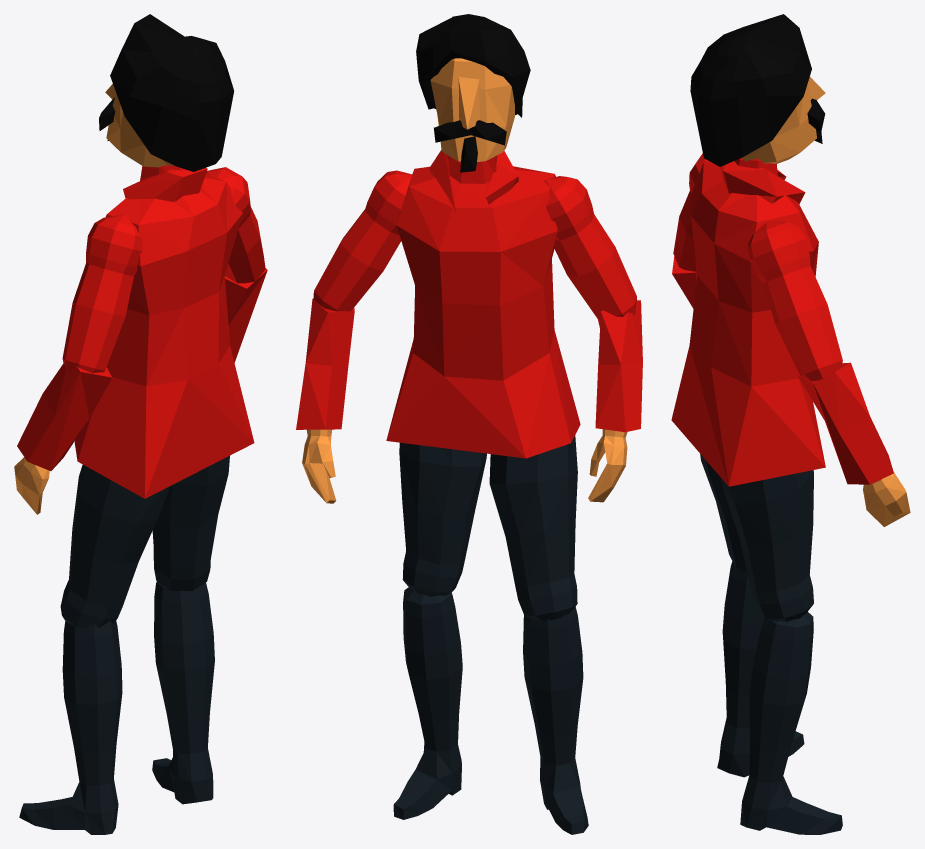
Rendered from dealer.obj.
3 renders of one model, left to right at view 1: azimuth 30°, elevation 25°; view 2: azimuth 150°, elevation 25°; view 3: azimuth 270°, elevation 25°, orthographic.
Visible parts, largest first — view 1: group1794093376, group1578840458, group1131172432, group938122174, group1874662402, group368397114, group719248615, group502874426, group106158125, group1037886679; view 2: group1794093376, group1578840458, group1874662402, group938122174, group719248615, group1131172432, group1037886679, group502874426, group368397114, group106158125; view 3: group1794093376, group1578840458, group938122174, group719248615, group106158125, group1037886679, group1131172432, group1874662402, group368397114, group502874426.
Part boxes in pixels (x1,y1,x2,y2): group1794093376: [74, 165, 254, 498]; group1578840458: [99, 14, 233, 171]; group1131172432: [19, 620, 122, 834]; group938122174: [152, 582, 214, 804]; group1874662402: [60, 464, 169, 628]; group368397114: [62, 214, 142, 380]; group719248615: [152, 456, 229, 591]; group502874426: [14, 363, 112, 514]; group106158125: [206, 167, 265, 283]; group1037886679: [224, 268, 267, 362]; group1794093376: [386, 150, 580, 458]; group1578840458: [416, 14, 530, 172]; group1874662402: [489, 435, 577, 621]; group938122174: [393, 587, 462, 819]; group719248615: [399, 442, 486, 596]; group1131172432: [523, 606, 588, 834]; group1037886679: [296, 299, 354, 503]; group502874426: [588, 300, 642, 502]; group368397114: [544, 176, 636, 320]; group106158125: [313, 170, 412, 311]; group1794093376: [671, 158, 825, 486]; group1578840458: [690, 14, 825, 166]; group938122174: [740, 612, 842, 834]; group719248615: [721, 470, 813, 621]; group106158125: [747, 221, 842, 381]; group1037886679: [797, 362, 910, 526]; group1131172432: [717, 561, 804, 777]; group1874662402: [700, 454, 747, 573]; group368397114: [673, 153, 708, 271]; group502874426: [672, 256, 695, 308].
Bounding box in the file's own units: 1.17 × 3.09 × 0.8477.
